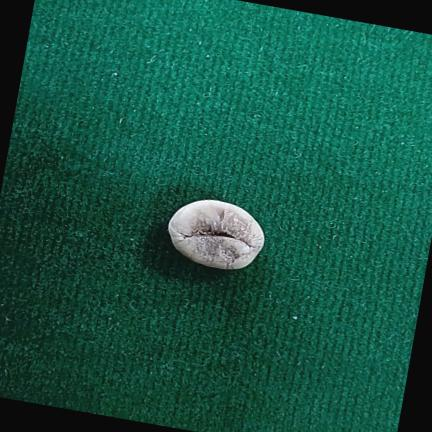immature: (168, 200, 264, 270)
